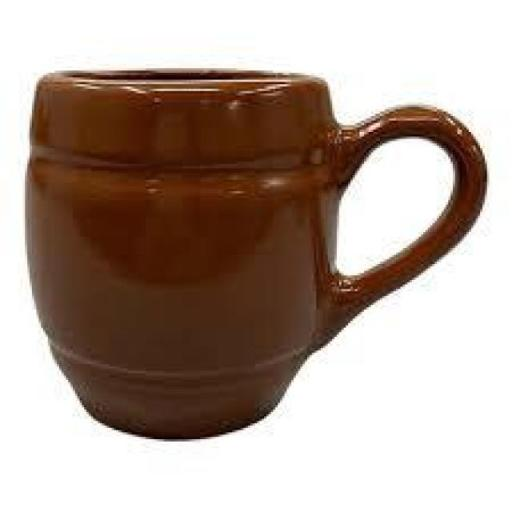glass: (16, 44, 498, 460)
